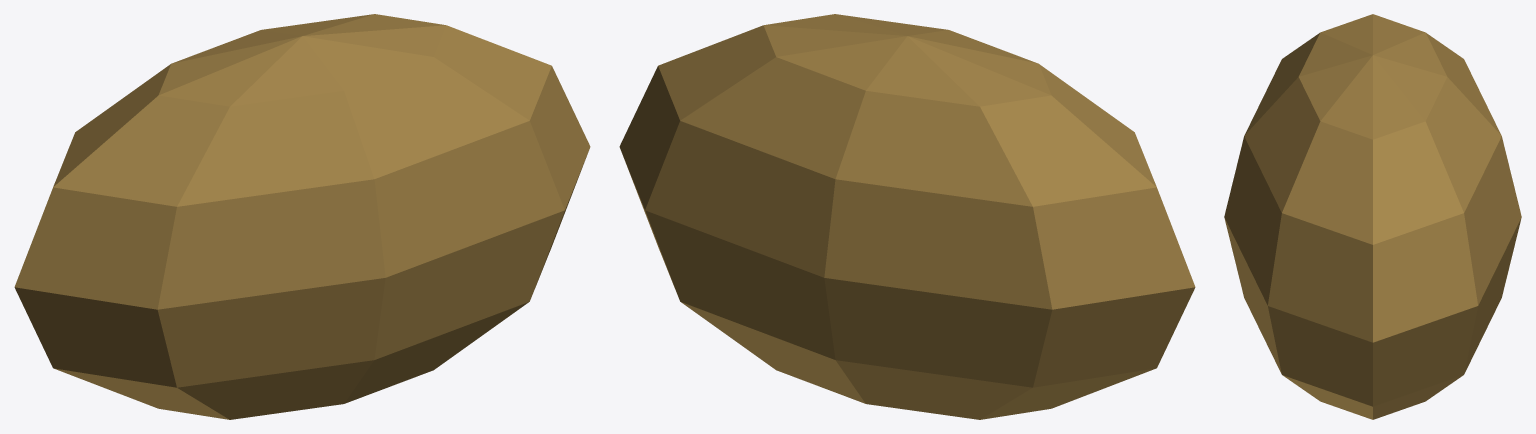
The model's file is bark_pauldron.dae.
3 renders of one model, left to right at view 1: azimuth 30°, elevation 25°; view 2: azimuth 150°, elevation 25°; view 3: azimuth 270°, elevation 25°, orthographic. The views are drawn at different scales.
Parts seen in each view (by area): view 1: Sphere; view 2: Sphere; view 3: Sphere.
Part boxes in pixels (x1,y1,x2,y2): Sphere: (14,14,590,419); Sphere: (619,14,1195,419); Sphere: (1224,14,1521,419).
Size of the model in its own units: 72 by 36 by 43.2.
